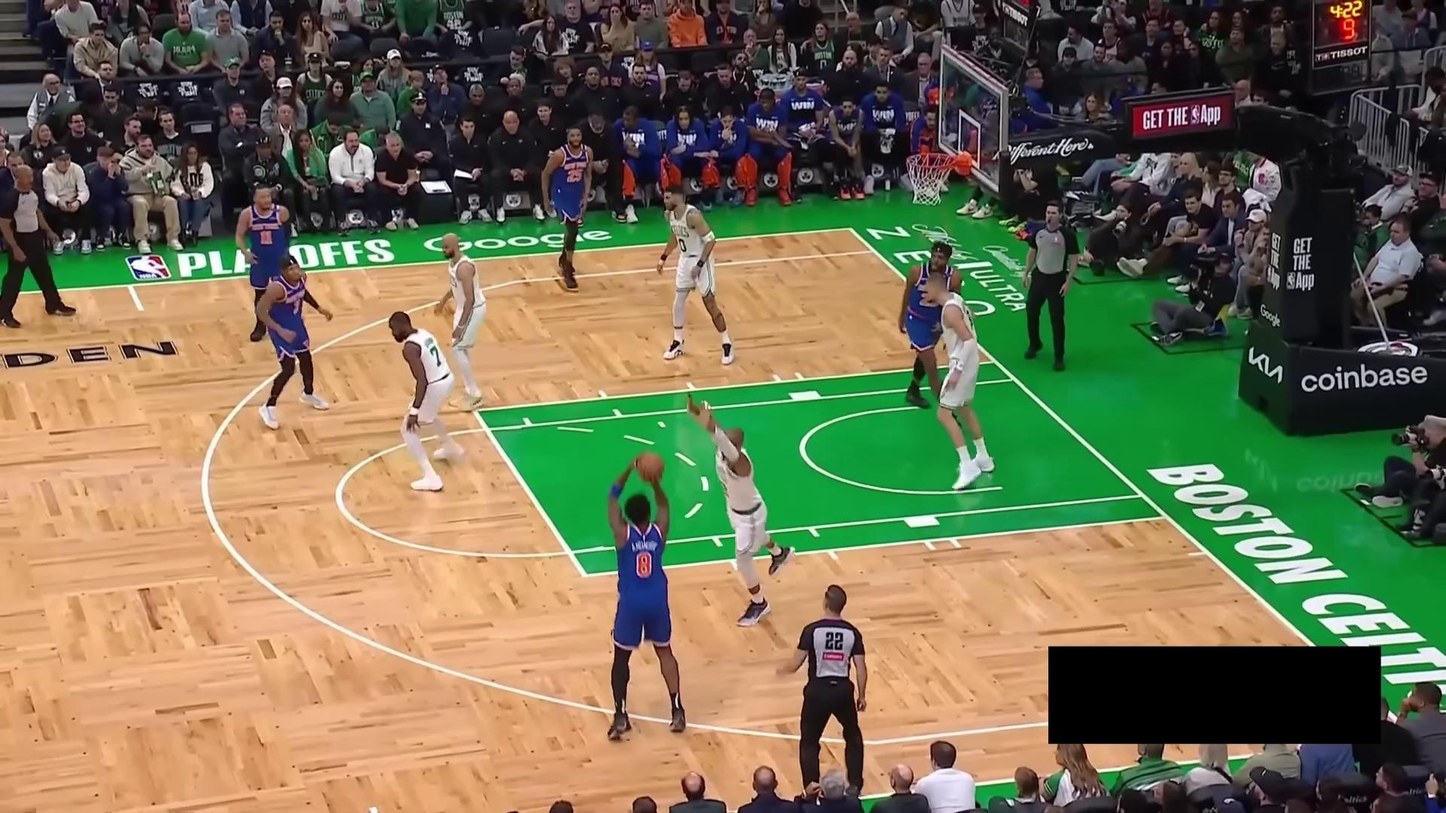ball: (635, 451, 665, 482)
number: (634, 550, 654, 579), (429, 346, 442, 367), (567, 168, 583, 183), (259, 229, 273, 245), (677, 236, 688, 253), (291, 299, 302, 315)
player: (922, 271, 997, 492), (252, 251, 334, 431), (656, 184, 735, 366), (389, 309, 467, 492), (897, 239, 965, 410), (433, 232, 488, 413), (234, 181, 294, 343), (541, 123, 595, 291)
player-jump-shot: (602, 450, 688, 742)
player-shot-block: (685, 391, 796, 630)
referee: (776, 583, 868, 799), (0, 163, 78, 328), (1020, 200, 1081, 372)
rim: (905, 151, 956, 170)
